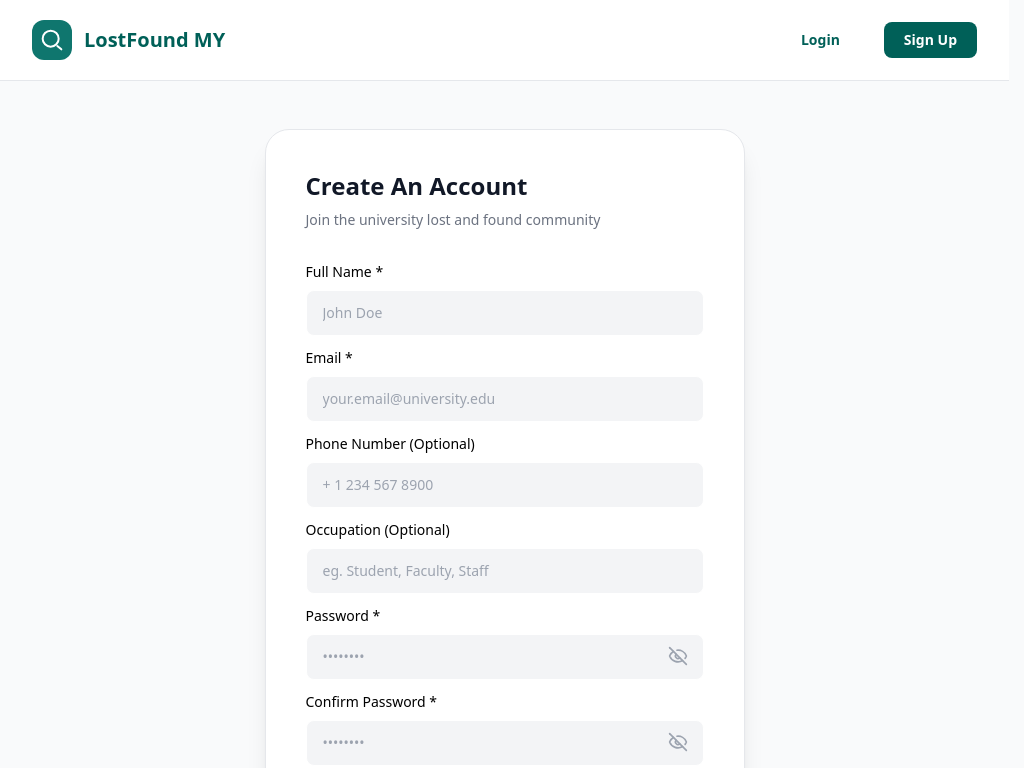
Scenario: Signup Component › shows error when confirm password does not match
Type "Test User" into the field with placeholder "John Doe" at (504, 313), box [306, 290, 704, 336]
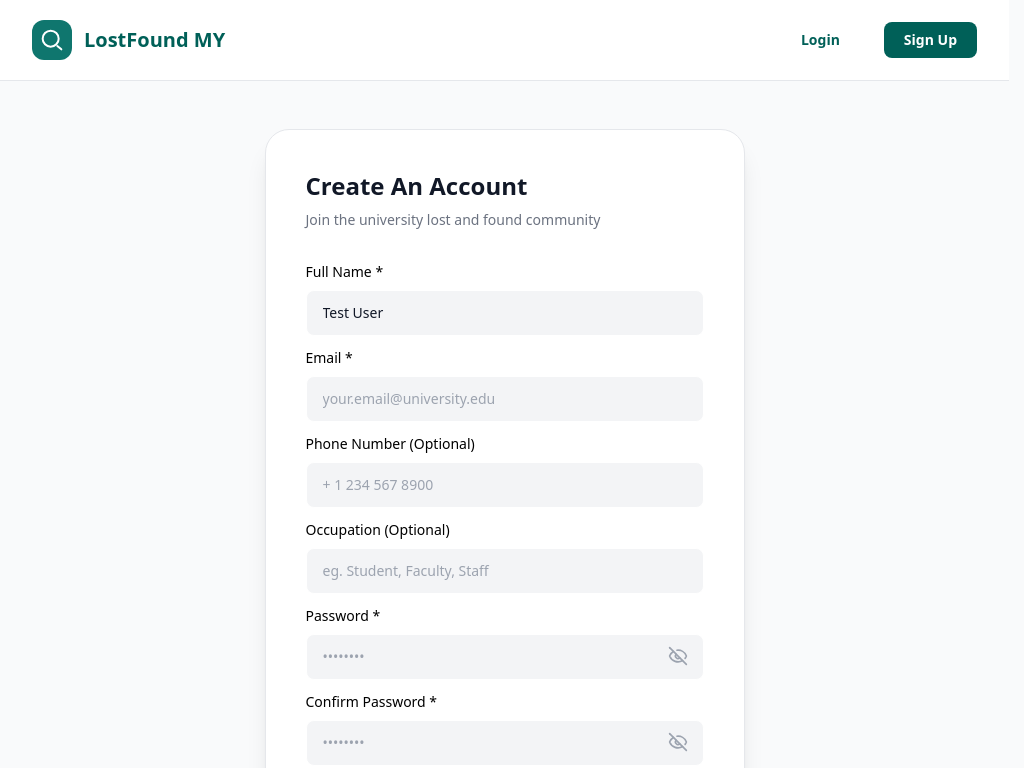
Type "test@example.com" into the field with placeholder "your.email@university.edu" at (504, 399), box [306, 376, 704, 422]
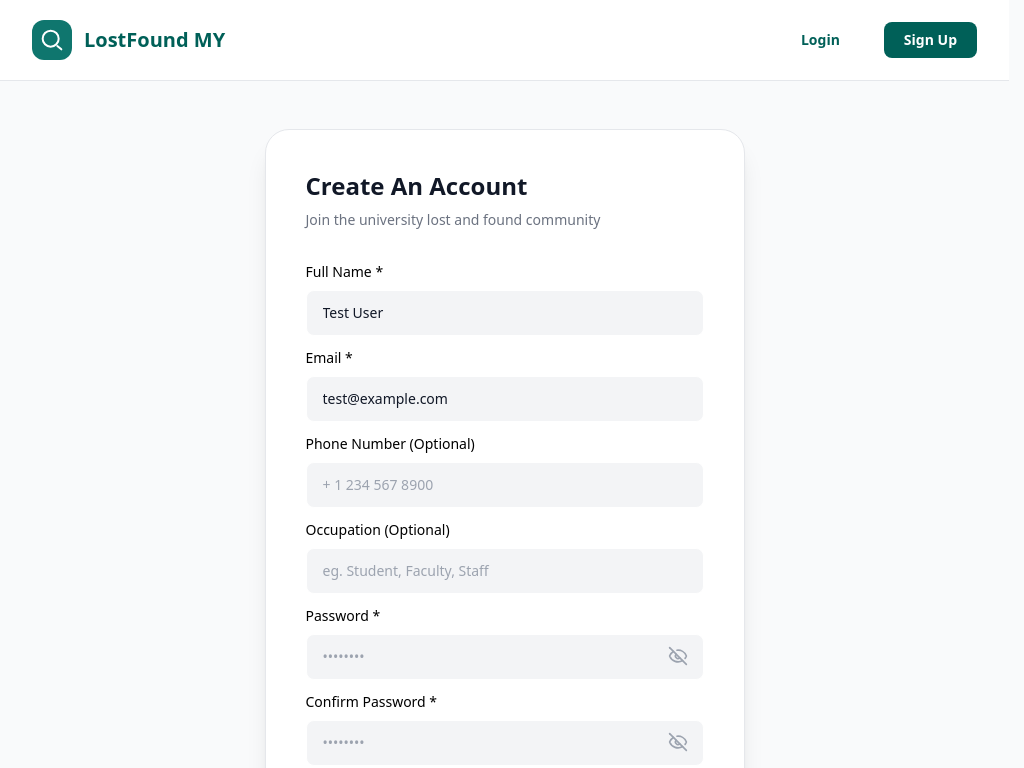
Type "Password123!" into the 1st password field with placeholder "••••••••" at (504, 657), box [306, 634, 704, 680]
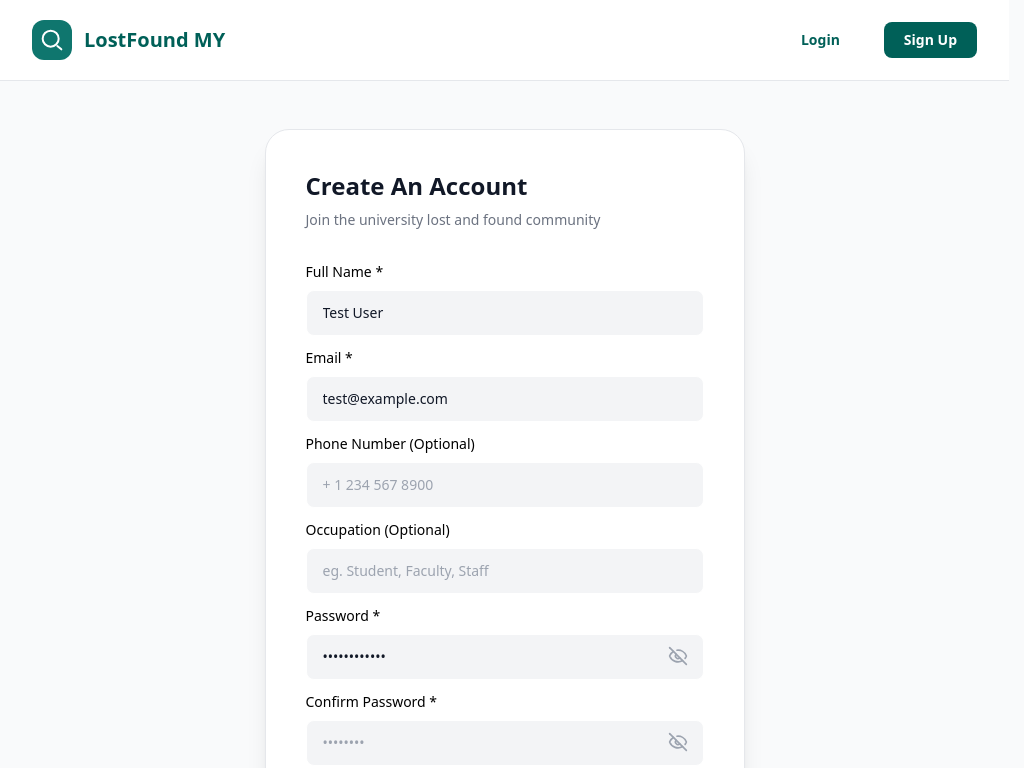
Type "Different123!" into the password field with placeholder "••••••••" at (504, 743), box [306, 720, 704, 766]
(page scrolled)
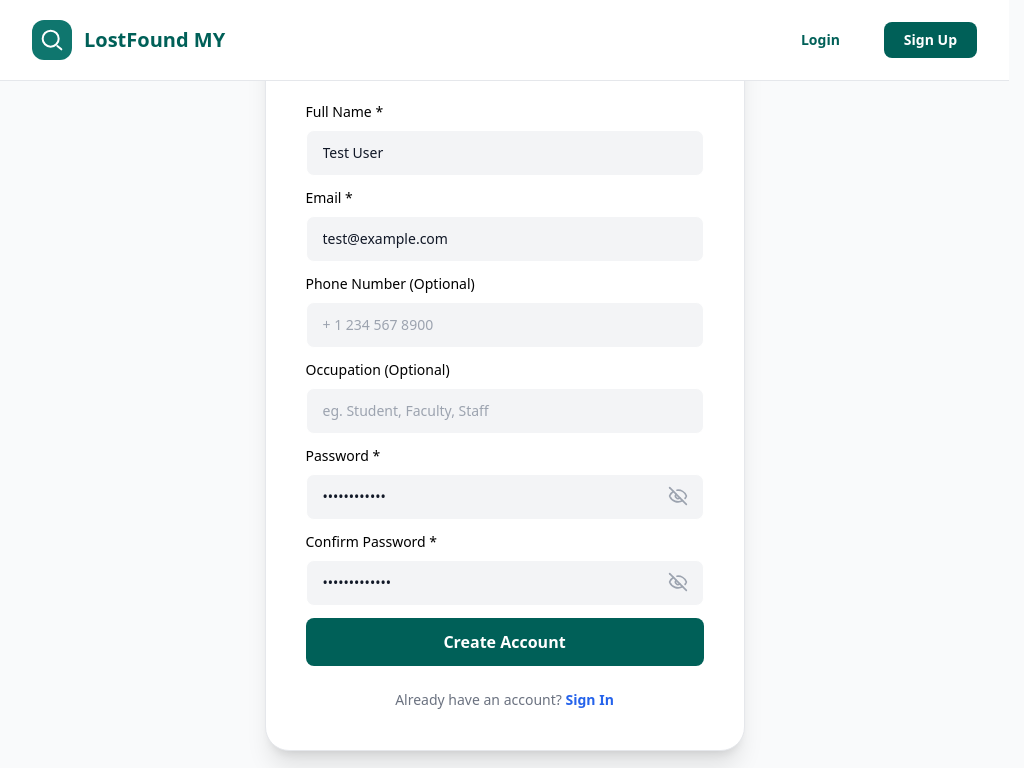
Submit the form named "create account", box [306, 102, 704, 666]
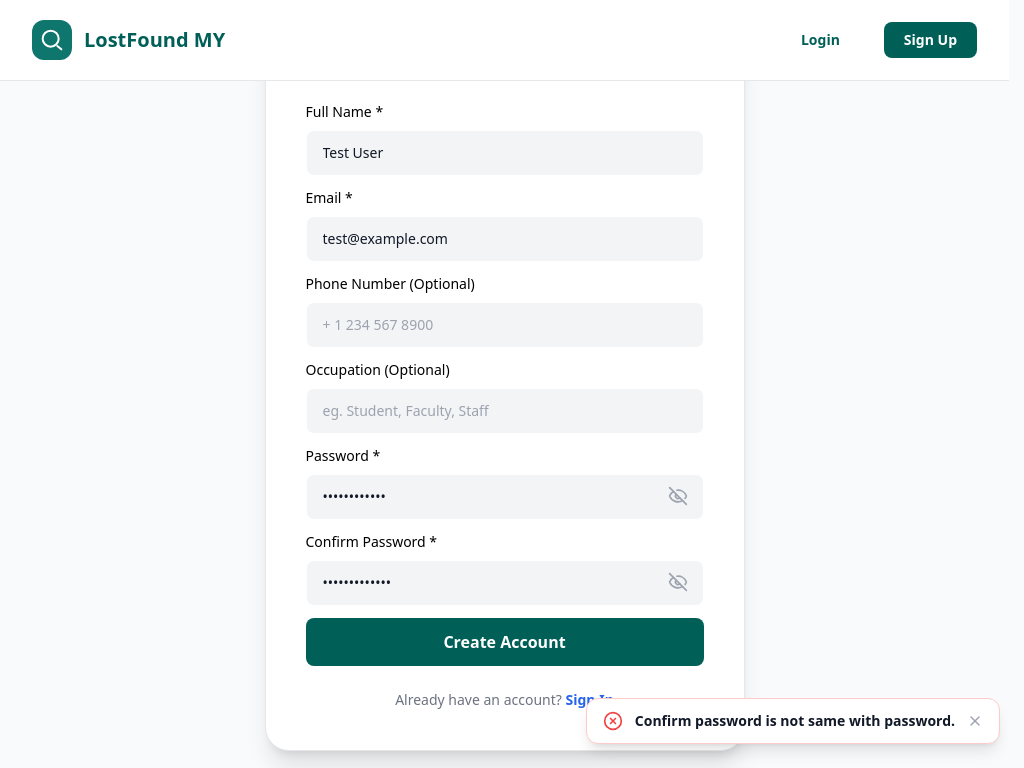
Check: the text "Confirm password is not same with password." is shown, box [635, 711, 955, 731]
